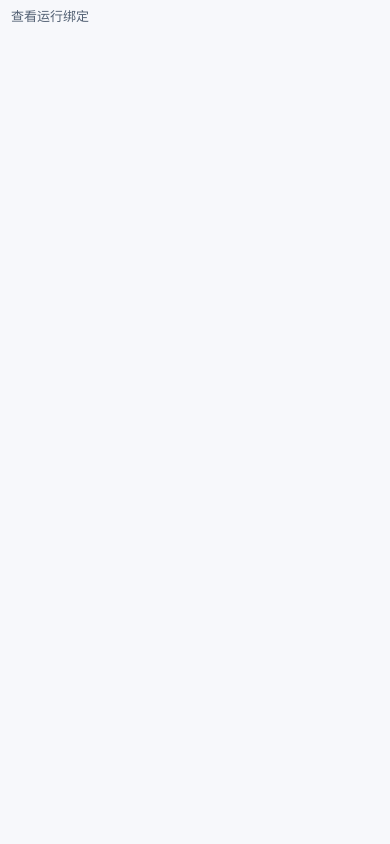
Test case: RunBindingButton › opens parent binding from a child run
This screenshot has width=390, height=844.
Click the button with test id "run-binding-open": (50, 16) [0, 0, 100, 32]
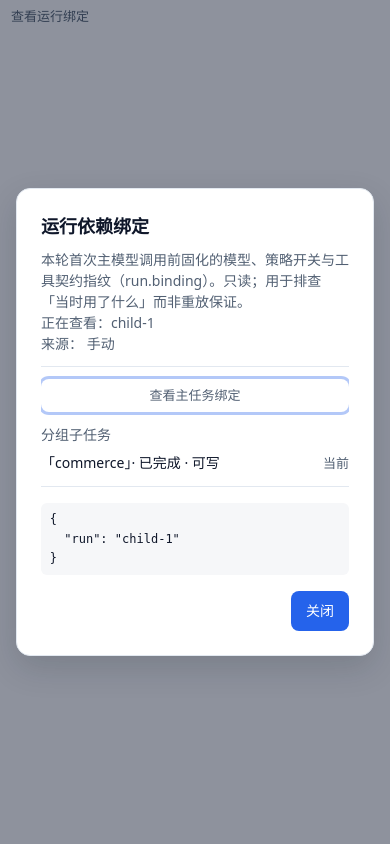
expect the button with test id "run-binding-open-parent" is shown: met
Click the button with test id "run-binding-open-parent": (195, 395) [41, 379, 349, 412]
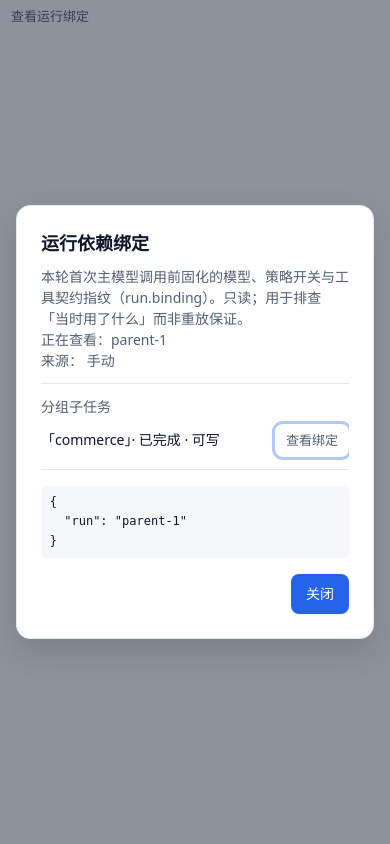
expect the text with test id "run-binding-body" shows "\"run\": \"parent-1\"": met, box [50, 495, 187, 548]
